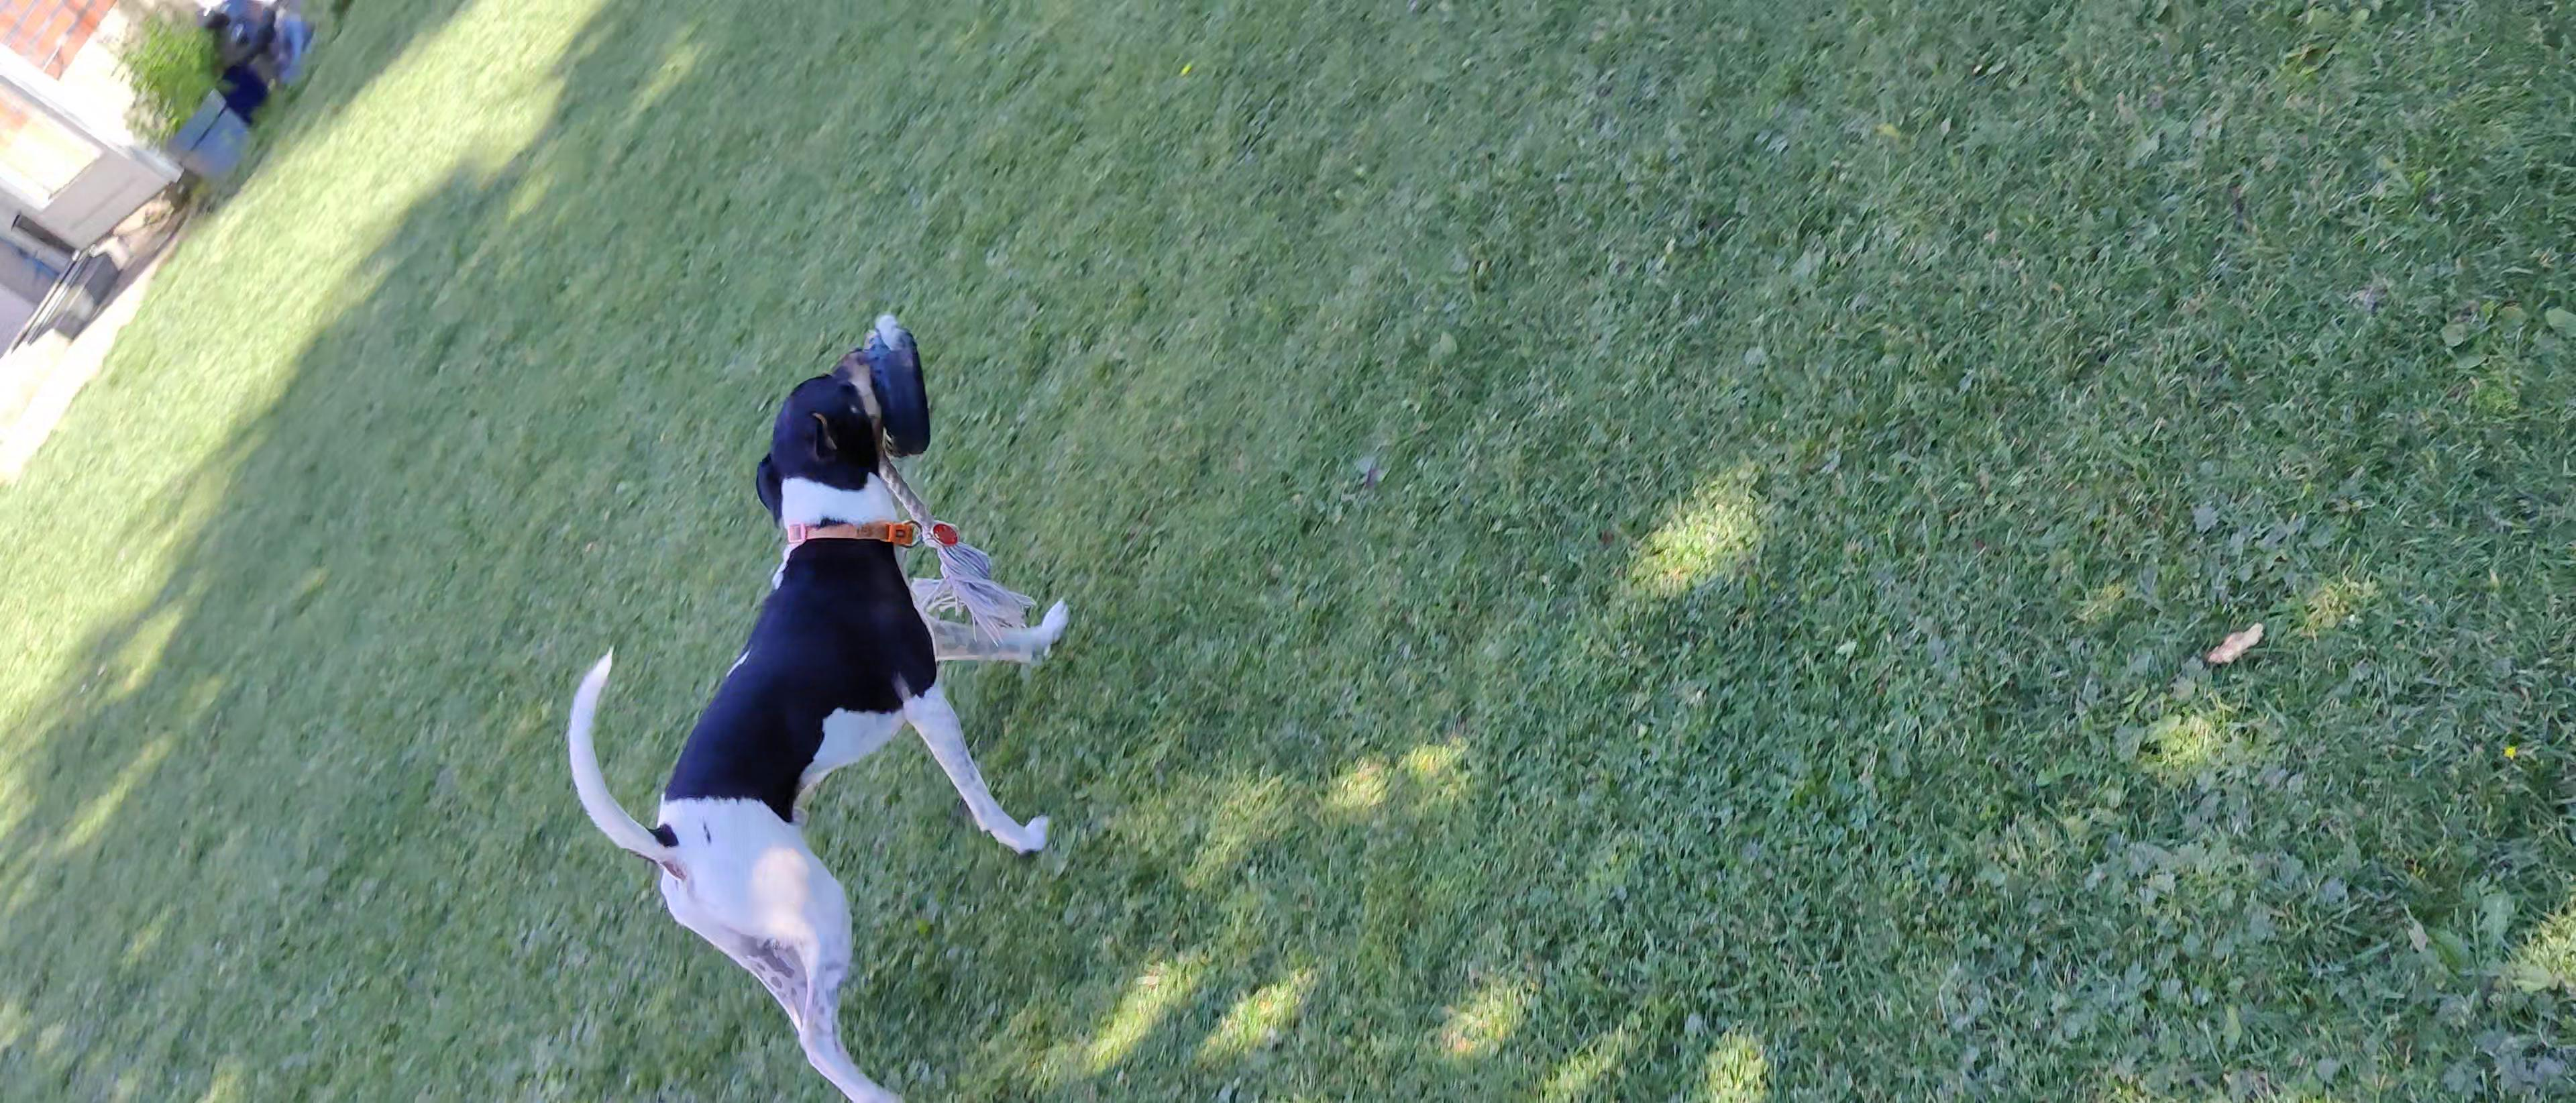Dog: (559, 340, 1048, 1103)
